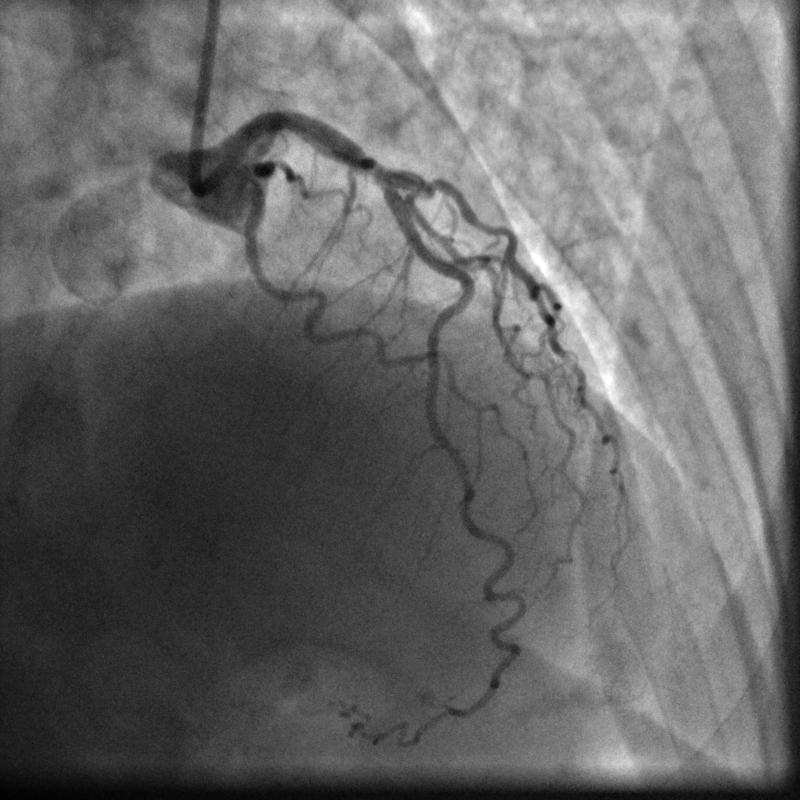Stenosis: (370, 157, 386, 187)
